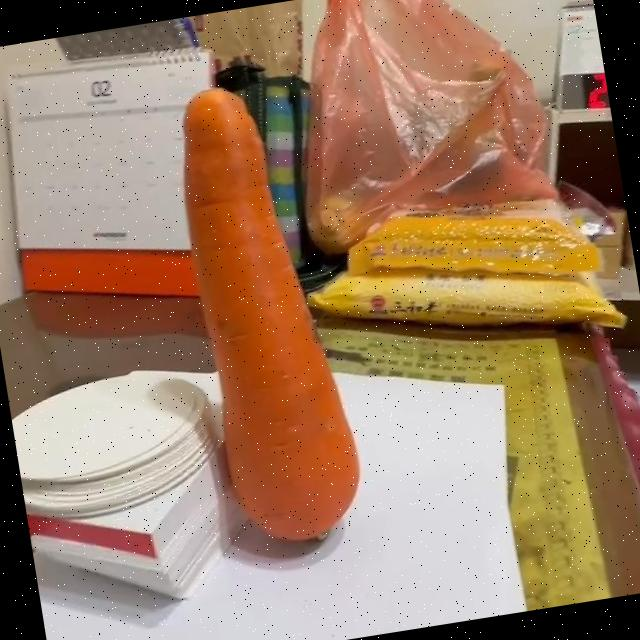carrot: (185, 89, 360, 540)
